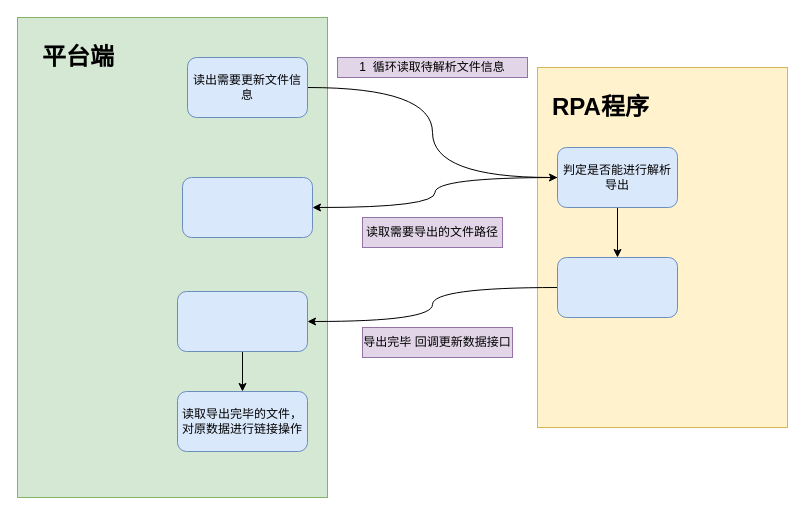
Image size: 805x515. Some labels were removed from this diagram. The shapes that lost their labels are listed below. From the top down, each one's centre as x and y in pixels, then its label:
At pixel 247 207: "更新文件状态为解析中".
At pixel 617 287: "执行导出操作".
At pixel 242 321: "更新文件解析状态为已识别".
